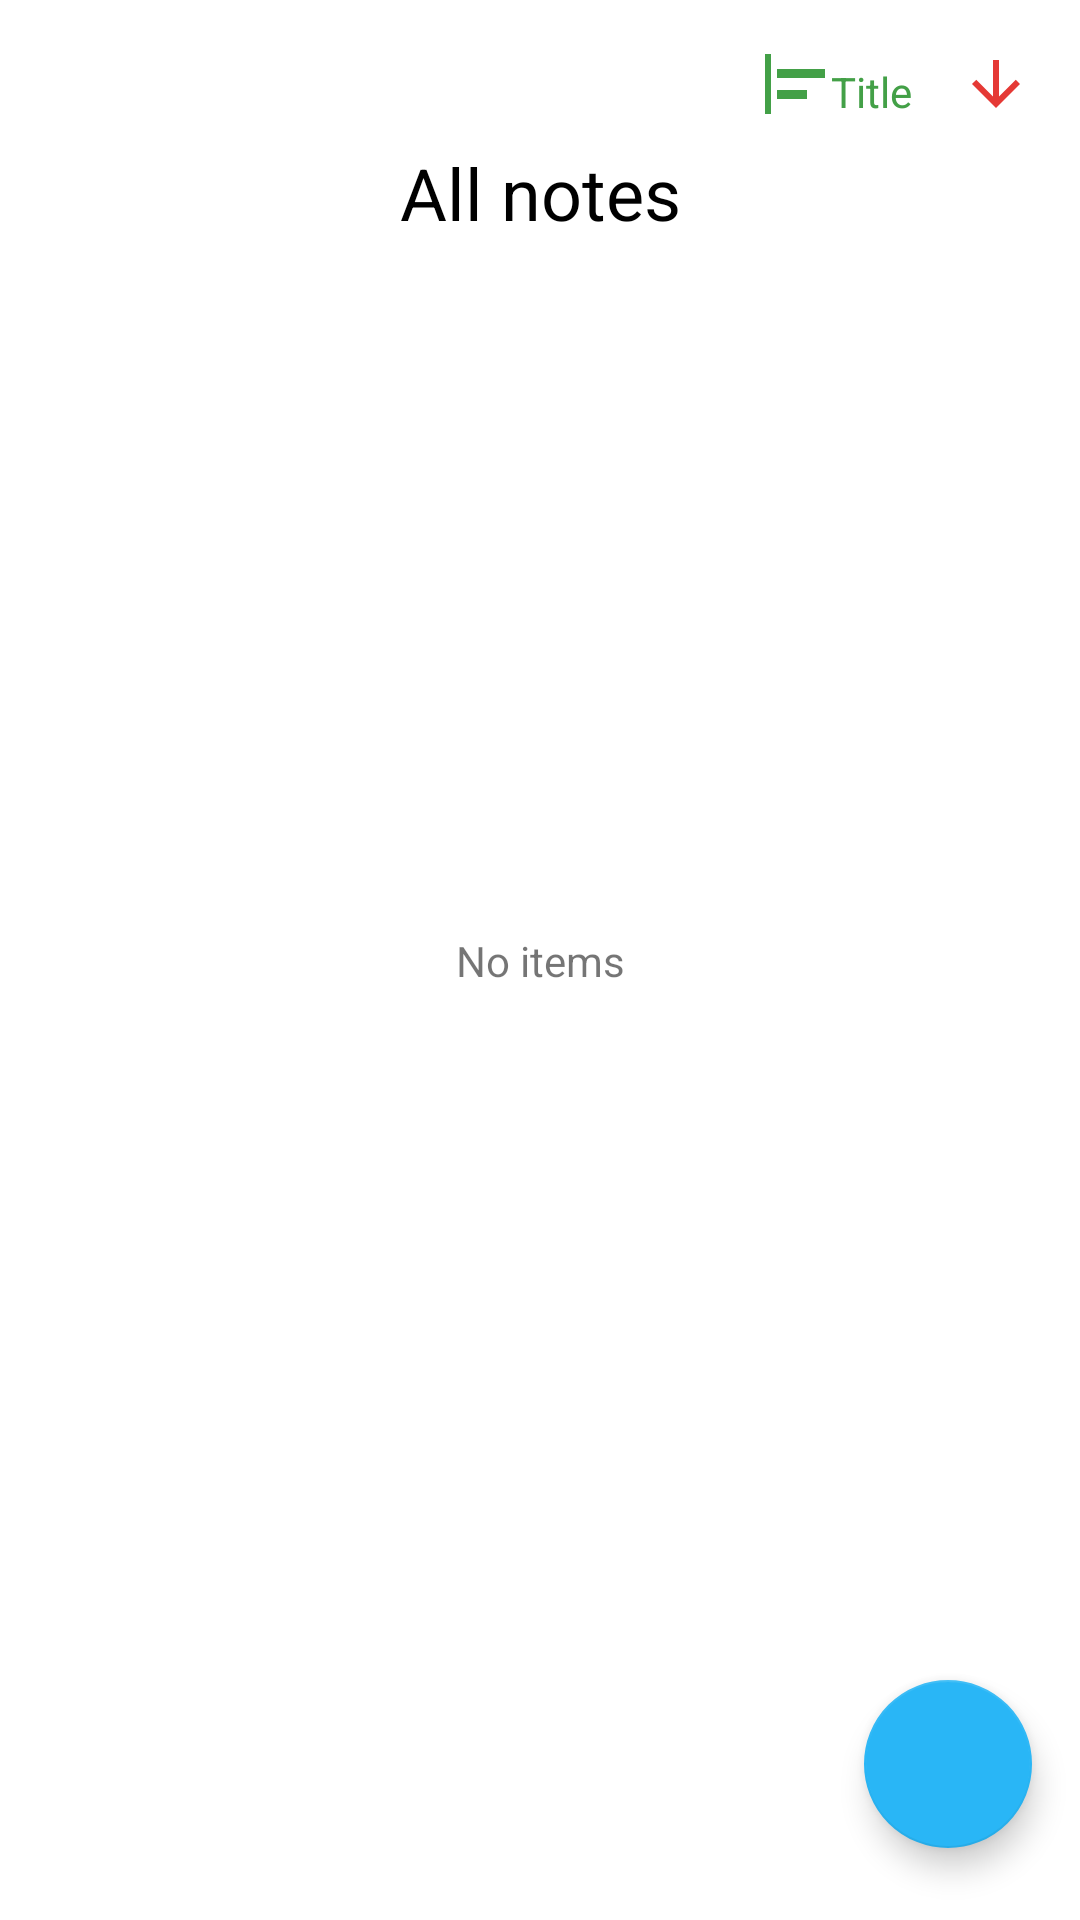

Locate icon controls on the screen. Image size 1080w x 1920h, boxes as (x1, y1, x2, y2).
arrow down: (972, 60, 1020, 108)
